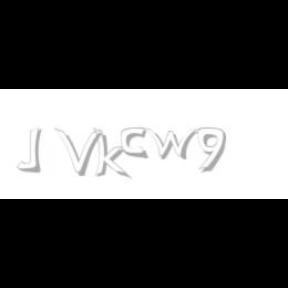9: (198, 128, 226, 172)
J: (16, 128, 42, 172)
V: (55, 128, 103, 176)
c: (120, 128, 150, 160)
k: (93, 128, 131, 180)
w: (144, 128, 202, 160)
